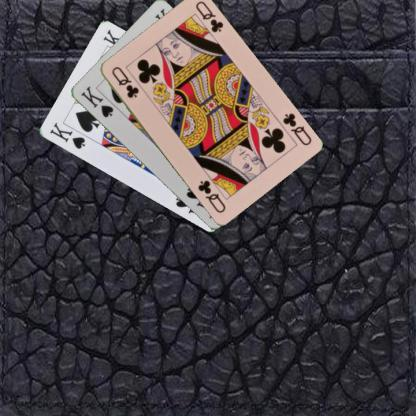Ks: (78, 83, 115, 119), (46, 120, 87, 150)
Qc: (280, 110, 312, 148), (108, 64, 140, 100)
